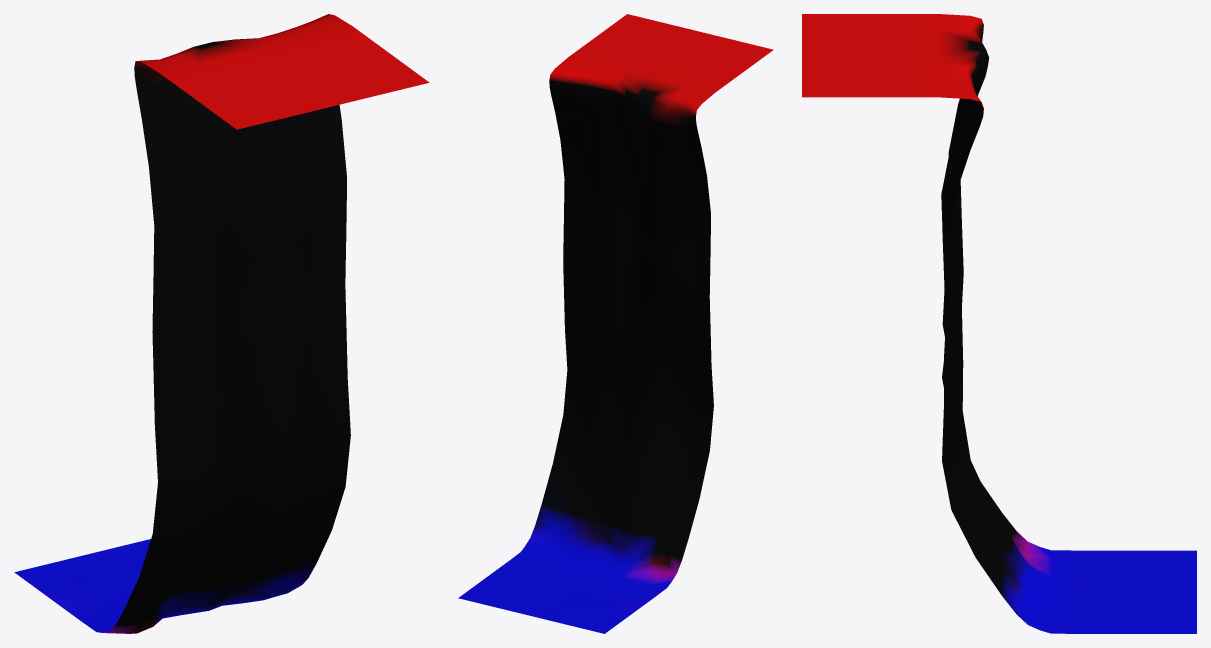
The model's file is GroundCliff00A 3M for Water Foreground.fbx.
3 views of the same model, side by side, from view 1: azimuth 30°, elevation 25°; view 2: azimuth 150°, elevation 25°; view 3: azimuth 270°, elevation 25° (orthographic). The views are drawn at different scales.
Visible parts, largest first — view 1: GroundCliff00A 3M for Water Foreground; view 2: GroundCliff00A 3M for Water Foreground; view 3: GroundCliff00A 3M for Water Foreground.
Boxes of the visible parts, x1=… form: GroundCliff00A 3M for Water Foreground: x1=14, y1=14, x2=429, y2=633; GroundCliff00A 3M for Water Foreground: x1=458, y1=14, x2=773, y2=633; GroundCliff00A 3M for Water Foreground: x1=802, y1=14, x2=1196, y2=633.
Size of the model in its own units: 1 by 3 by 2.
